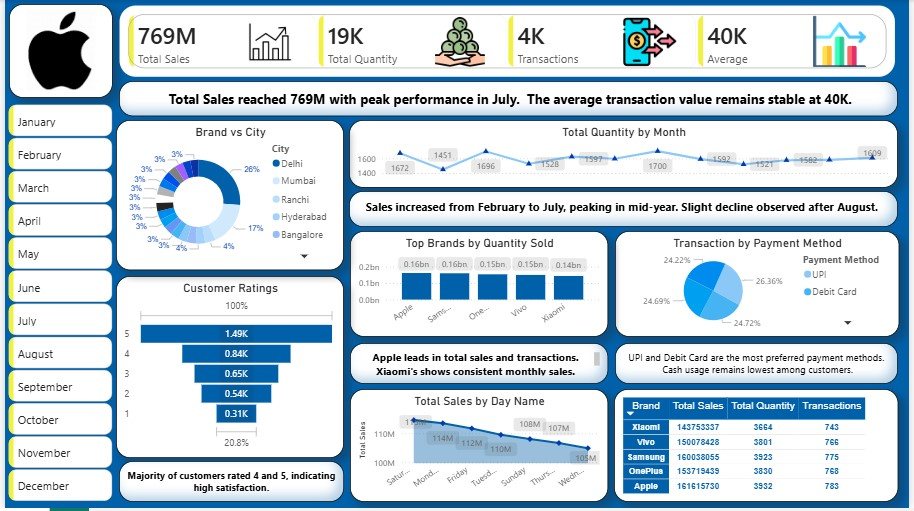

Layout of this report page (visuals, bound fields, positions):
{"tool":"powerbi","page":{"name":"Page 1","canvas":[1280,720],"ordinal":0},"visuals":[{"type":"shape","box":[5.7,5.7,147.4,133.2],"z":0},{"type":"image","box":[113.4,154.5,147.4,126.1],"z":1000},{"type":"advancedSlicerVisual","fields":{"Values":["Sales Data.Date.Variation.Date Hierarchy.Month"]},"box":[0,143.1,157.3,575.4],"z":2000},{"type":"cardVisual","fields":{"Data":["Sales_Data.Total Sales","Sales_Data.Total Quantity","Sales_Data.Transactions","Sales_Data.Average"]},"box":[157.3,2.8,1109.8,112],"z":3000},{"type":"lineChart","title":"Total Quantity by Month","fields":{"Y":["Sum(Sales_Data.Units Sold)"],"Category":["Sales_Data.Date.Variation.Date Hierarchy.Month","Sales_Data.Date.Variation.Date Hierarchy.Day"]},"box":[487.6,170.1,778.1,96.4],"z":4000},{"type":"pieChart","title":"Transaction by Payment Method","fields":{"Category":["Sales_Data.Payment Method"],"Y":["Sales_Data.Transactions"]},"box":[864.6,327.4,402.5,150.2],"z":5000},{"type":"clusteredColumnChart","title":"Top Brands by Quantity Sold","fields":{"Y":["Sales_Data.Total Sales"],"Category":["Sales_Data.Brand"]},"box":[489,327.4,365.7,150.2],"z":6000},{"type":"funnel","title":"Customer Ratings","fields":{"Category":["Sales_Data.Customer Ratings"],"Y":["CountNonNull(Sales_Data.Customer Ratings)"]},"box":[157.3,391.2,323.1,258],"z":7000},{"type":"donutChart","title":"Brand vs City","fields":{"Category":["Sales_Data.City"],"Y":["CountNonNull(Sales_Data.Brand)"]},"box":[157.3,170.1,323.1,212.6],"z":8000},{"type":"areaChart","title":"Total Sales by Day Name","fields":{"Category":["Sales_Data.Day Name"],"Y":["Sales_Data.Total Sales"]},"box":[489,551.3,365.7,160.2],"z":9000},{"type":"tableEx","title":"Total Sales by Day Name","fields":{"Values":["Sales_Data.Brand","Sales_Data.Total Sales","Sales_Data.Total Quantity","Sales_Data.Transactions"]},"box":[863.1,551.3,402.5,160.2],"z":10000},{"type":"textbox","box":[161.6,114.8,1104.1,49.6],"z":11000},{"type":"textbox","box":[489,486.1,365.7,58.1],"z":12000},{"type":"textbox","box":[487.6,270.7,778.1,51],"z":13000},{"type":"textbox","box":[864.6,486.1,401.1,58.1],"z":14000},{"type":"textbox","box":[161.6,653.4,318.9,58.1],"z":15000},{"type":"image","box":[18.4,14.2,121.9,114.8],"z":15006}]}

Visuals, with their boxes in screenshot pixels (x1, y1, x2, y2), scaled from the page's 1280x720 canvas onto the 914x511 screenshot:
shape: (4,4,109,99)
image: (81,110,186,199)
advancedSlicerVisual - Sales Data.Date.Variation.Date Hierarchy.Month: (0,102,112,510)
cardVisual - Sales_Data.Total Sales x Sales_Data.Total Quantity: (112,2,905,81)
"Total Quantity by Month" lineChart: (348,121,904,189)
"Transaction by Payment Method" pieChart: (617,232,905,339)
"Top Brands by Quantity Sold" clusteredColumnChart: (349,232,610,339)
"Customer Ratings" funnel: (112,278,343,461)
"Brand vs City" donutChart: (112,121,343,272)
"Total Sales by Day Name" areaChart: (349,391,610,505)
"Total Sales by Day Name" tableEx: (616,391,904,505)
textbox: (115,81,904,117)
textbox: (349,345,610,386)
textbox: (348,192,904,228)
textbox: (617,345,904,386)
textbox: (115,464,343,505)
image: (13,10,100,92)
